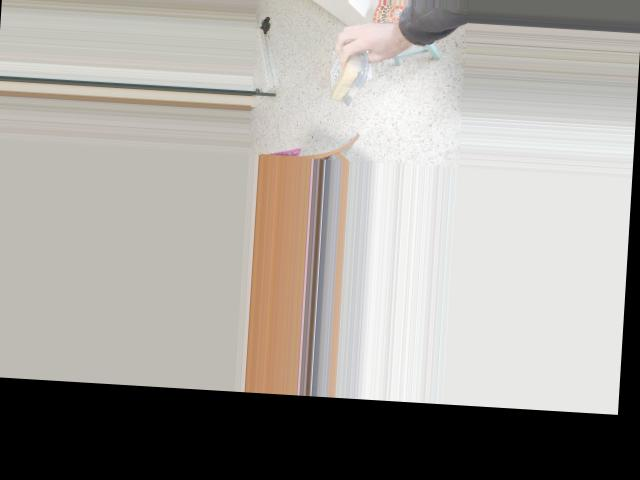cheese: (327, 39, 364, 106)
